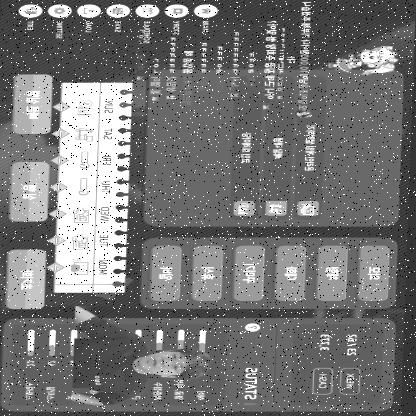donation: (260, 1, 399, 119)
streamer: (73, 306, 214, 405)
